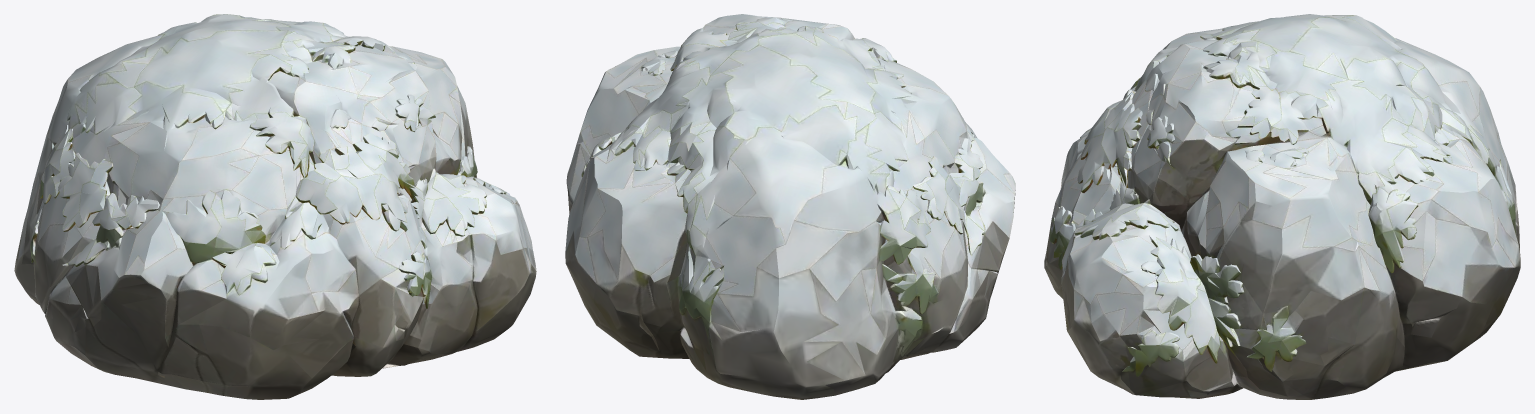
Rendered from prop_rock_snow.glb.
The picture shows the model from 3 angles, left to right: view 1: azimuth 30°, elevation 25°; view 2: azimuth 150°, elevation 25°; view 3: azimuth 270°, elevation 25°; orthographic projection. The views are drawn at different scales.
Parts seen in each view (by area): view 1: output_unwrapped; view 2: output_unwrapped; view 3: output_unwrapped.
Boxes of the visible parts, box(x1,y1,x2,y2) form: output_unwrapped: box(14, 14, 536, 399); output_unwrapped: box(565, 14, 1015, 399); output_unwrapped: box(1044, 14, 1520, 399).
Bounding box in the file's own units: 1.9 × 1.21 × 1.88.
1 material, 1 textured.
